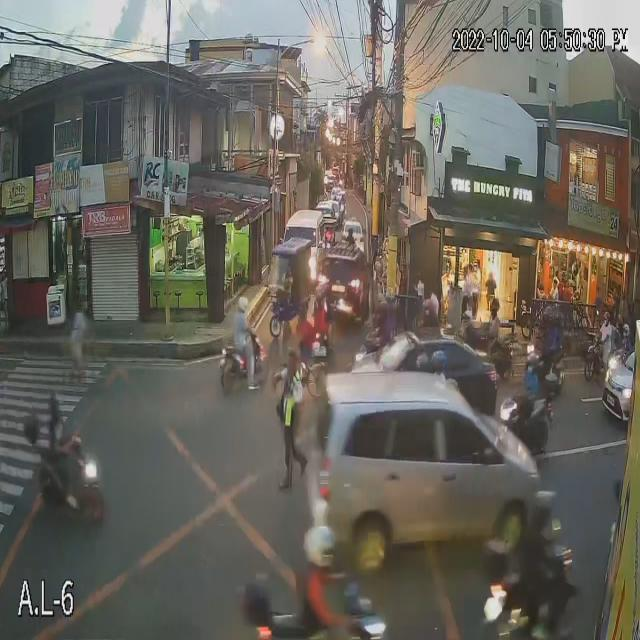helmet: (518, 490, 560, 531), (303, 525, 339, 568), (42, 389, 72, 423), (523, 354, 541, 381), (230, 294, 252, 315), (538, 304, 557, 325), (374, 297, 390, 319), (422, 296, 436, 321), (459, 310, 476, 330), (484, 296, 500, 315), (598, 310, 616, 326), (551, 312, 567, 329), (314, 286, 329, 298), (622, 322, 635, 335)
motorcycle: (479, 525, 574, 640), (238, 577, 389, 639), (25, 422, 108, 517), (502, 391, 554, 459), (218, 328, 264, 391), (518, 344, 569, 392), (479, 336, 520, 372), (580, 338, 606, 380), (311, 311, 334, 354), (606, 348, 631, 372)
rider: (514, 481, 570, 585), (293, 529, 349, 631), (46, 384, 79, 462), (518, 351, 548, 415), (229, 297, 253, 354), (532, 305, 556, 357), (484, 293, 511, 338), (310, 285, 334, 330), (550, 313, 567, 353), (598, 306, 616, 340), (460, 310, 477, 345), (378, 296, 391, 335), (619, 318, 632, 355), (423, 300, 439, 329), (344, 228, 356, 244)
